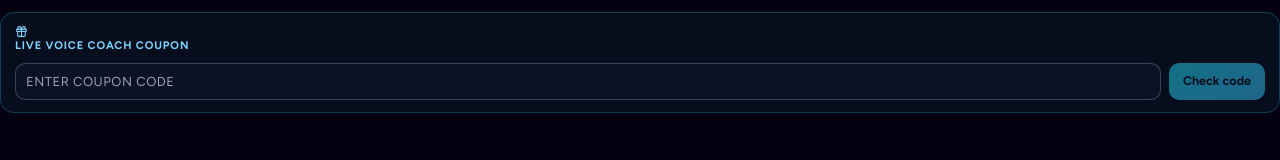
Test: global_limit_reached shows a distinct usage-limit message
Type "used1" into the field with test id "live-coupon-input" at (588, 81), box [15,62,1161,100]
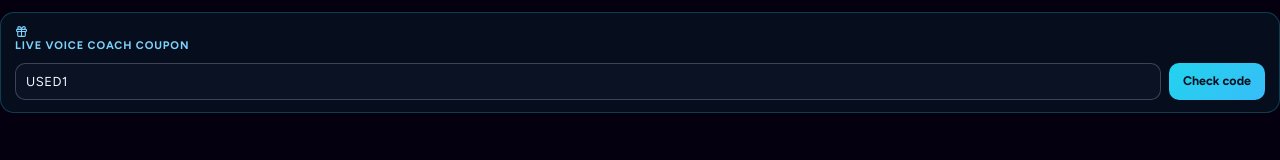
Click the button with test id "live-coupon-check-btn" at (1217, 81), box [1169,62,1265,100]
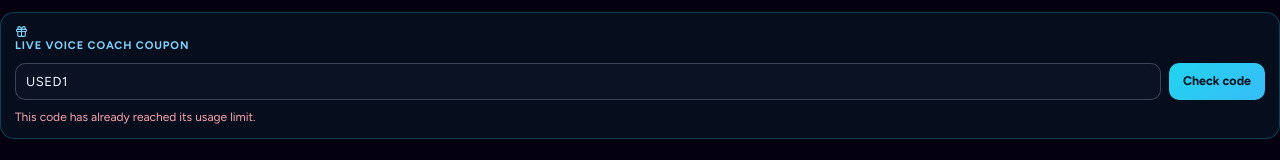
Result: the text with test id "live-coupon-error" shows "usage limit" at [15,110,256,124]
